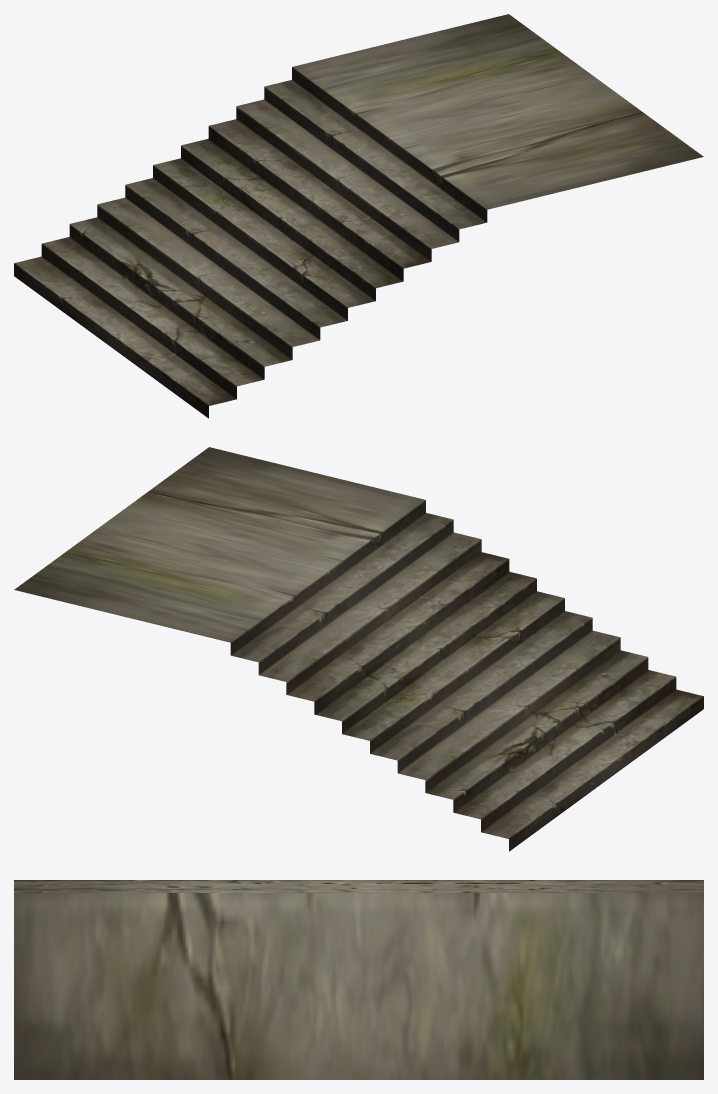
File: blsd_louti_01.FBX
3 views of the same model, one above another, from view 1: azimuth 30°, elevation 25°; view 2: azimuth 150°, elevation 25°; view 3: azimuth 270°, elevation 25° (orthographic). The views are drawn at different scales.
Parts seen in each view (by area): view 1: blsd_louti_01; view 2: blsd_louti_01; view 3: blsd_louti_01.
Part boxes in pixels (<box>): blsd_louti_01: <box>14,14,703,418</box>; blsd_louti_01: <box>14,447,703,851</box>; blsd_louti_01: <box>14,880,703,1079</box>.
Bounding box in the file's own units: 748 × 511 × 204.
